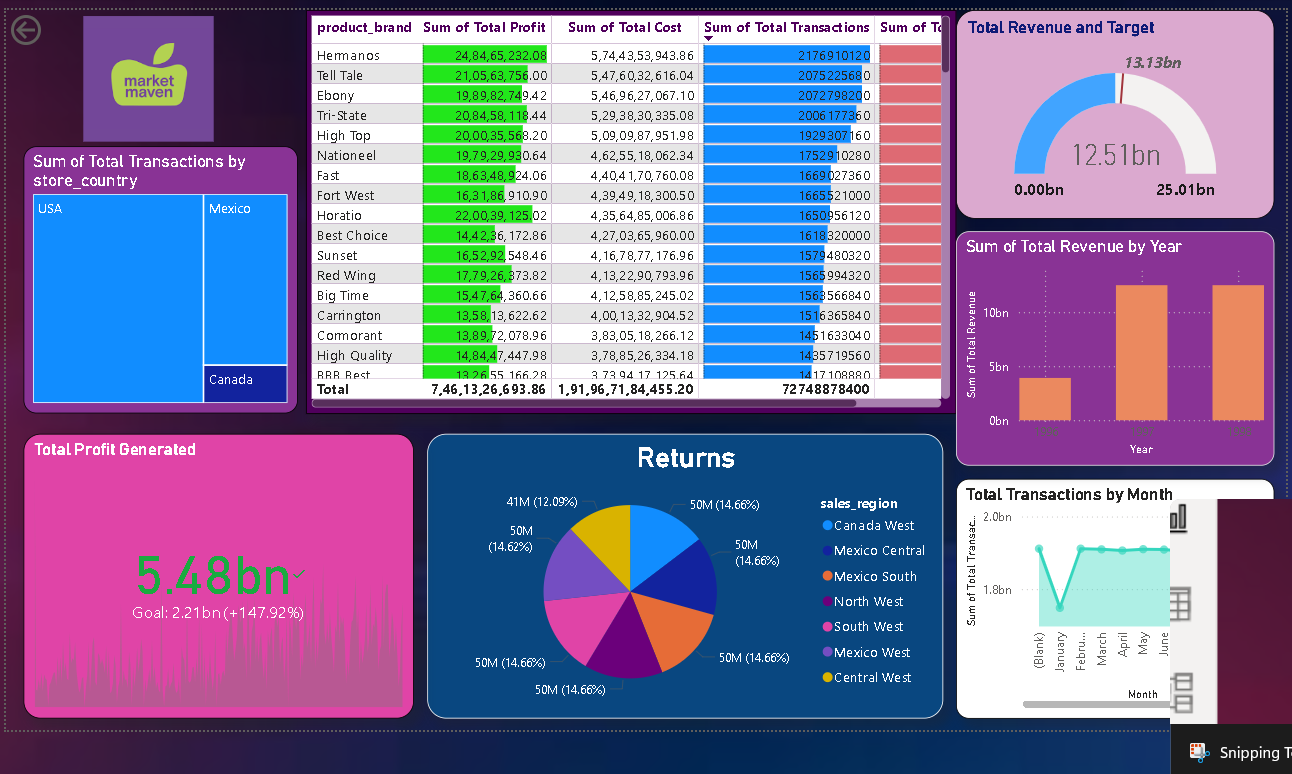

Layout of this report page (visuals, bound fields, positions):
{"tool":"powerbi","page":{"name":"Topline Performance","canvas":[1280,720],"ordinal":0},"visuals":[{"type":"image","box":[72.5,1.2,140,135],"z":0},{"type":"pivotTable","fields":{"Rows":["Products.product_brand"],"Values":["Sum(MavenMarket_Returns.Total Profit)","Sum(Transactions_Data.Total Cost)","Sum(Transactions_Data.Total Transactions)","Sum(MavenMarket_Returns.Total Returns)"]},"box":[300,0,650,403.8],"z":1000},{"type":"pieChart","title":"Returns","fields":{"Y":["Sum(MavenMarket_Returns.Total Returns)"],"Category":["Regions.sales_region"]},"box":[421.2,423.8,516.2,285],"z":2000},{"type":"lineChart","title":"Total Transactions by Month","fields":{"Category":["Calender.Start of Month.Variation.Date Hierarchy.Month"],"Y":["Sum(MavenMarket_Returns.Total Transactions)"]},"box":[950,468.6,318.6,240],"z":3000},{"type":"kpi","title":"Total Profit Generated","fields":{"TrendLine":["Calender.date"],"Goal":["Sum(MavenMarket_Returns.Total Cost)"],"Indicator":["Sum(MavenMarket_Returns.Total Revenue)"]},"box":[17.5,423.8,390,285],"z":4000},{"type":"treemap","fields":{"Group":["Stores.store_country"],"Values":["Sum(Transactions_Data.Total Transactions)"]},"box":[17.1,135.7,274.3,267.1],"z":5000},{"type":"actionButton","box":[0,0,100,40],"z":6000},{"type":"columnChart","fields":{"Category":["Calender.Start of Week.Variation.Date Hierarchy.Year","Calender.Start of Week.Variation.Date Hierarchy.Quarter","Calender.Start of Week.Variation.Date Hierarchy.Month","Calender.Start of Week.Variation.Date Hierarchy.Day"],"Y":["Sum(MavenMarket_Returns.Total Revenue)"]},"box":[950,221.4,318.6,234.3],"z":7000},{"type":"gauge","title":"Total Revenue and Target","fields":{"Y":["Sum(MavenMarket_Returns.Total Revenue)"],"TargetValue":["Sum(MavenMarket_Returns.Revenue Target)"]},"box":[950,0,318.6,208.6],"z":8000}]}

Visuals, with their boxes in screenshot pixels (x1, y1, x2, y2):
image: {"x1": 79, "y1": 11, "x2": 218, "y2": 146}
pivotTable - Products.product_brand x Sum(MavenMarket_Returns.Total Profit): {"x1": 305, "y1": 10, "x2": 952, "y2": 412}
"Returns" pieChart: {"x1": 426, "y1": 432, "x2": 940, "y2": 716}
"Total Transactions by Month" lineChart: {"x1": 952, "y1": 477, "x2": 1270, "y2": 715}
"Total Profit Generated" kpi: {"x1": 24, "y1": 432, "x2": 412, "y2": 716}
treemap - Stores.store_country x Sum(Transactions_Data.Total Transactions): {"x1": 24, "y1": 145, "x2": 297, "y2": 411}
actionButton: {"x1": 7, "y1": 10, "x2": 106, "y2": 50}
columnChart - Calender.Start of Week.Variation.Date Hierarchy.Year x Calender.Start of Week.Variation.Date Hierarchy.Quarter: {"x1": 952, "y1": 230, "x2": 1270, "y2": 464}
"Total Revenue and Target" gauge: {"x1": 952, "y1": 10, "x2": 1270, "y2": 218}
